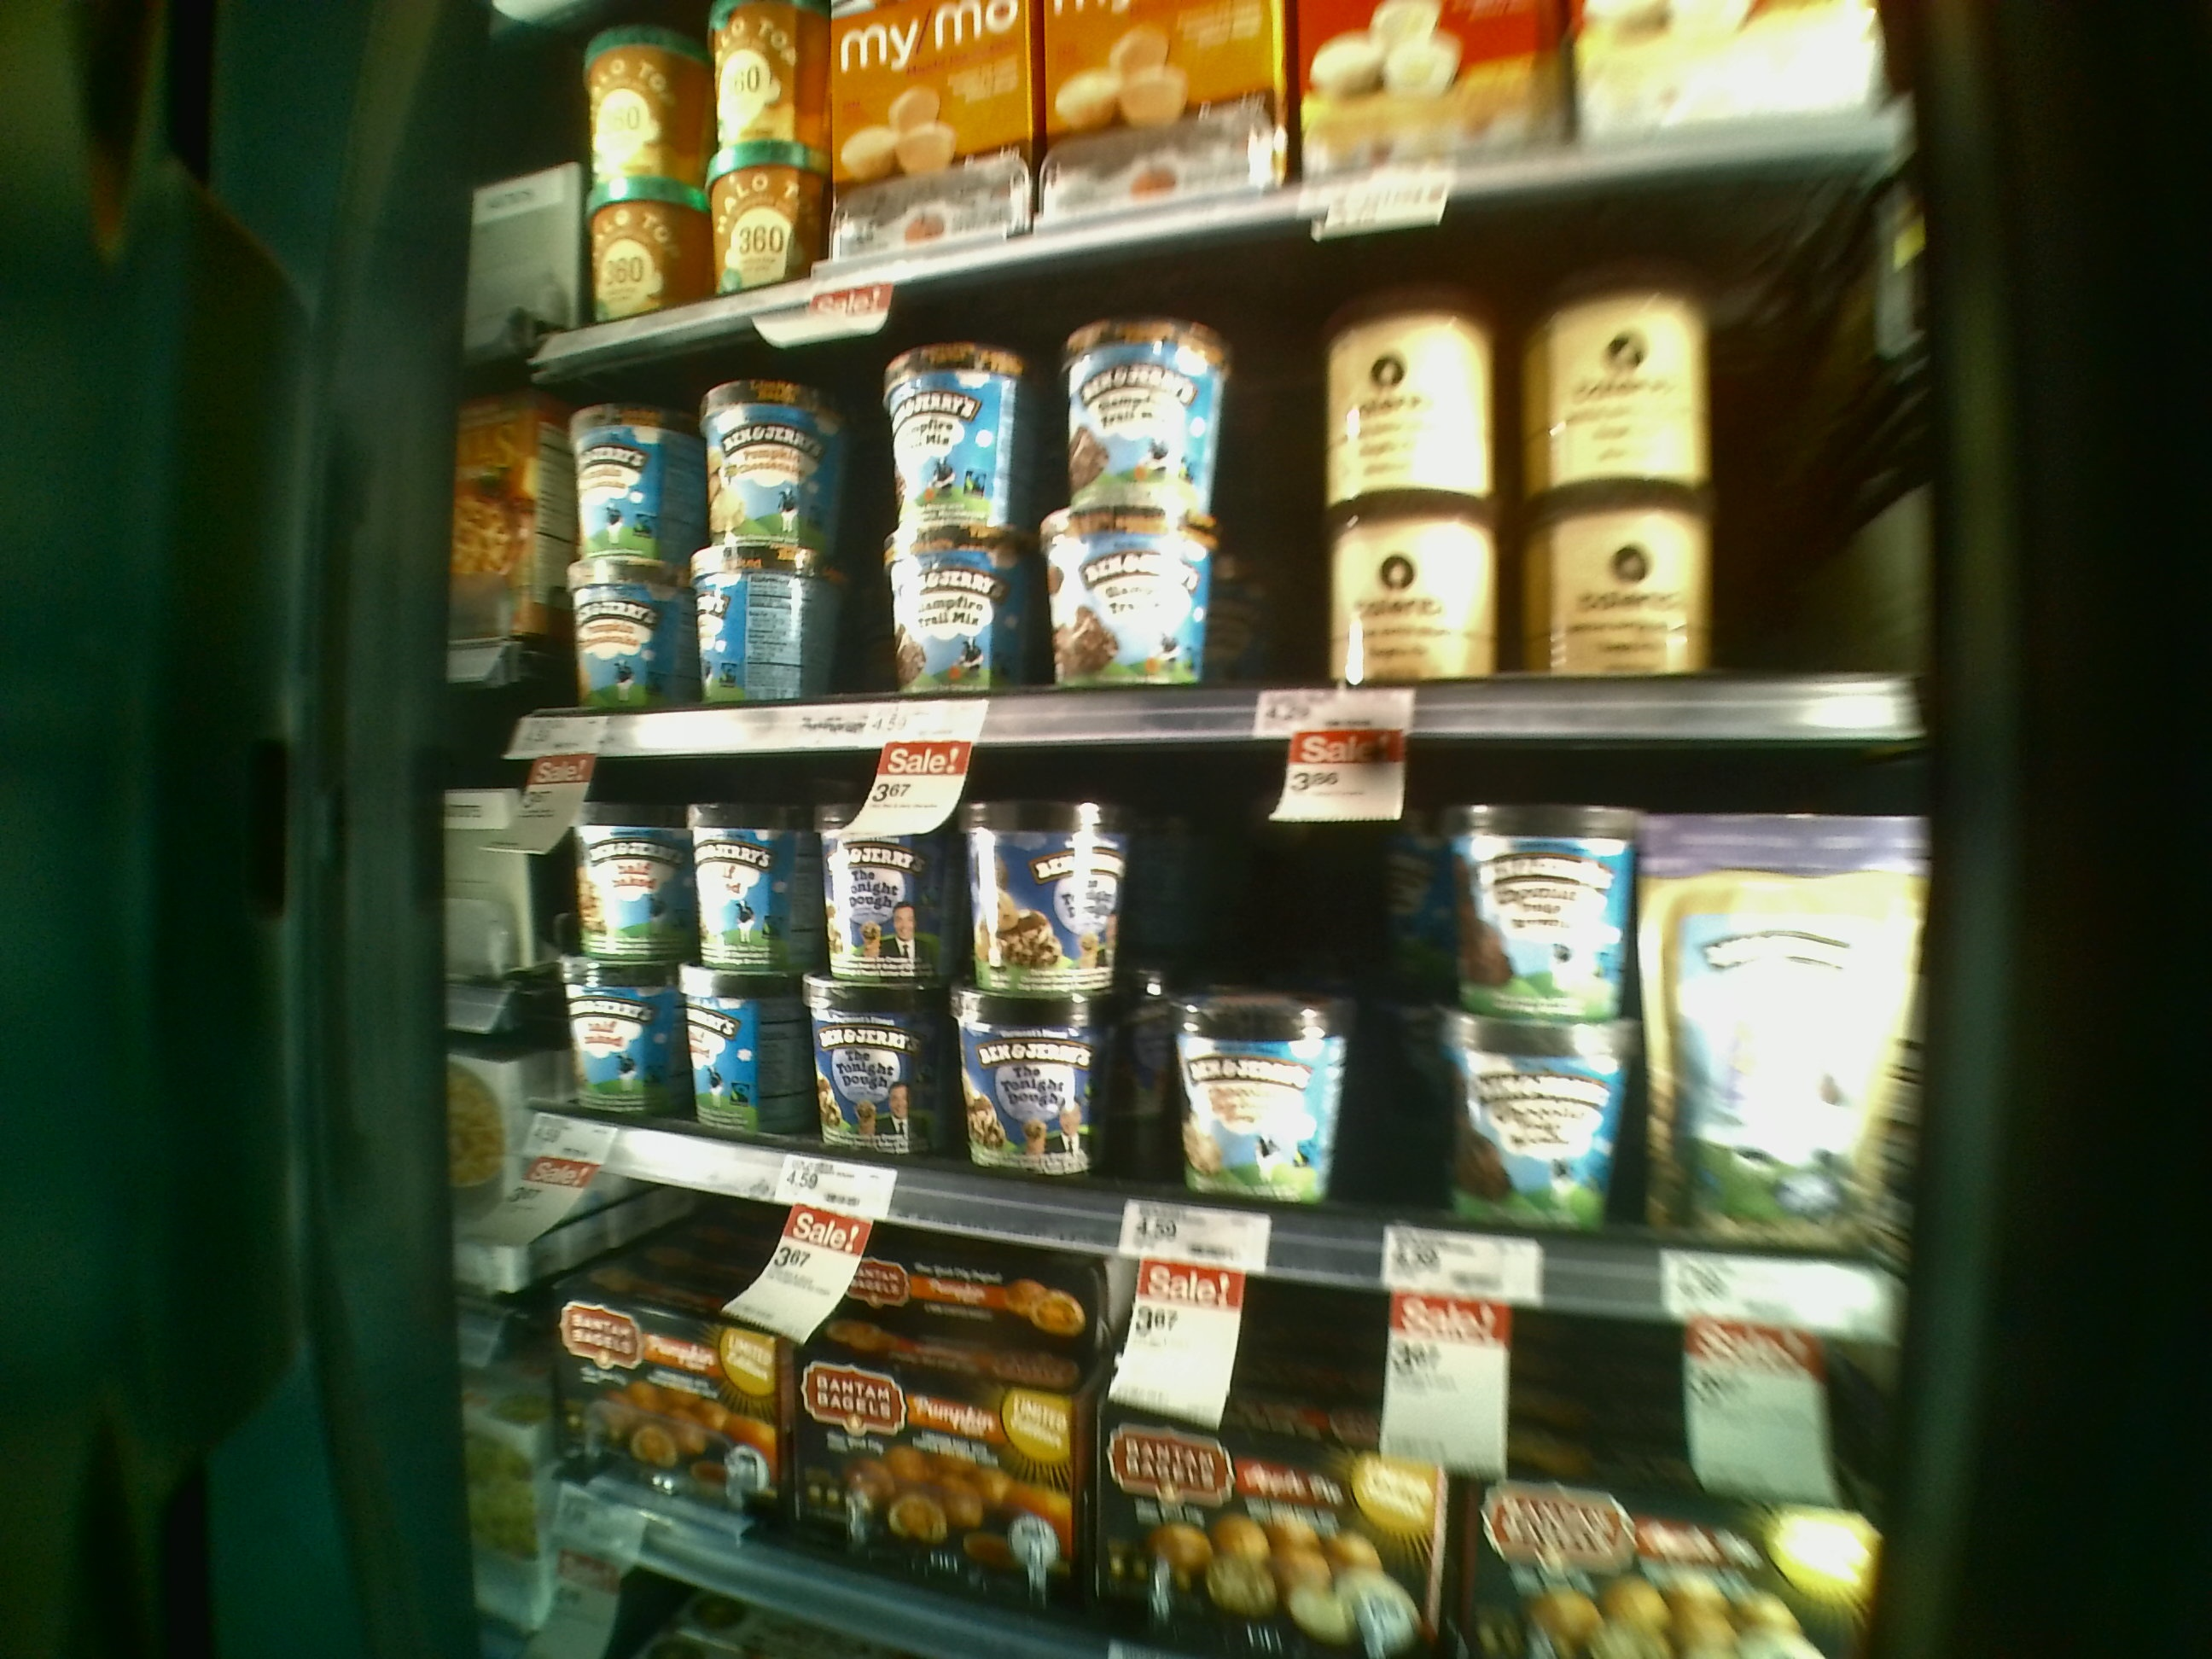shelf: (503, 695, 1946, 1277), (536, 279, 1928, 742)
